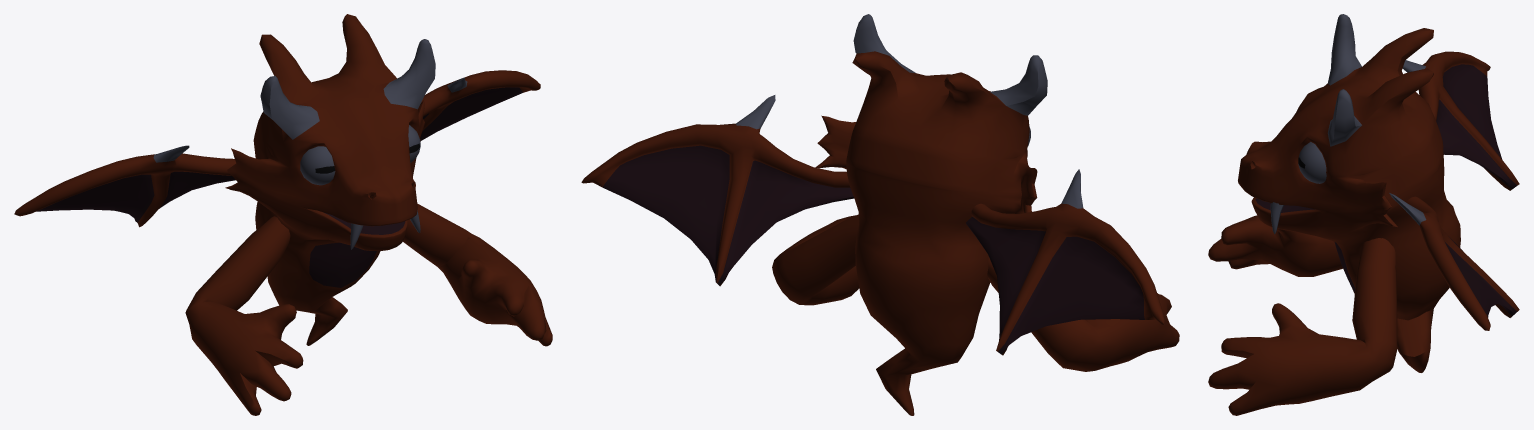
The model's file is Dragon_Evolved.obj.
The picture shows the model from 3 angles, left to right: view 1: azimuth 30°, elevation 25°; view 2: azimuth 150°, elevation 25°; view 3: azimuth 270°, elevation 25°; orthographic projection. The views are drawn at different scales.
Visible parts, largest first — view 1: Dragon_Cube.221; view 2: Dragon_Cube.221; view 3: Dragon_Cube.221.
Part boxes in pixels (bbox=[...]): Dragon_Cube.221: bbox=[14, 14, 552, 415]; Dragon_Cube.221: bbox=[581, 14, 1179, 415]; Dragon_Cube.221: bbox=[1208, 14, 1519, 415].
Bounding box in the file's own units: 4.92 × 2.83 × 2.47.
